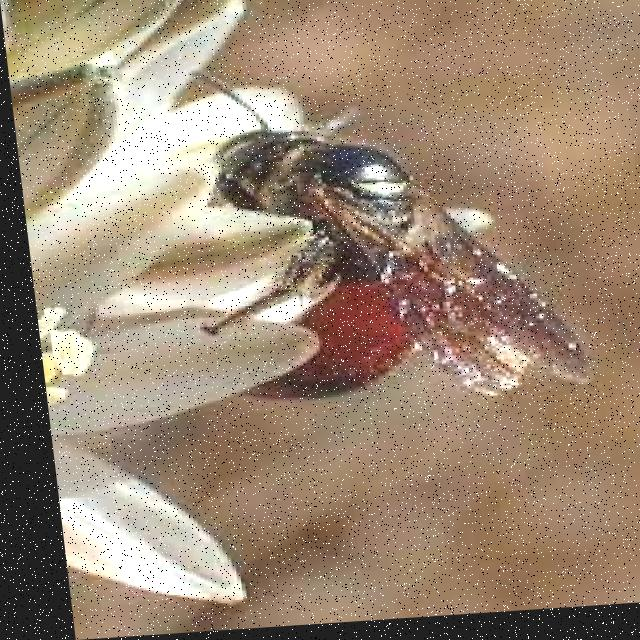Allodapula: (160, 42, 610, 438)
